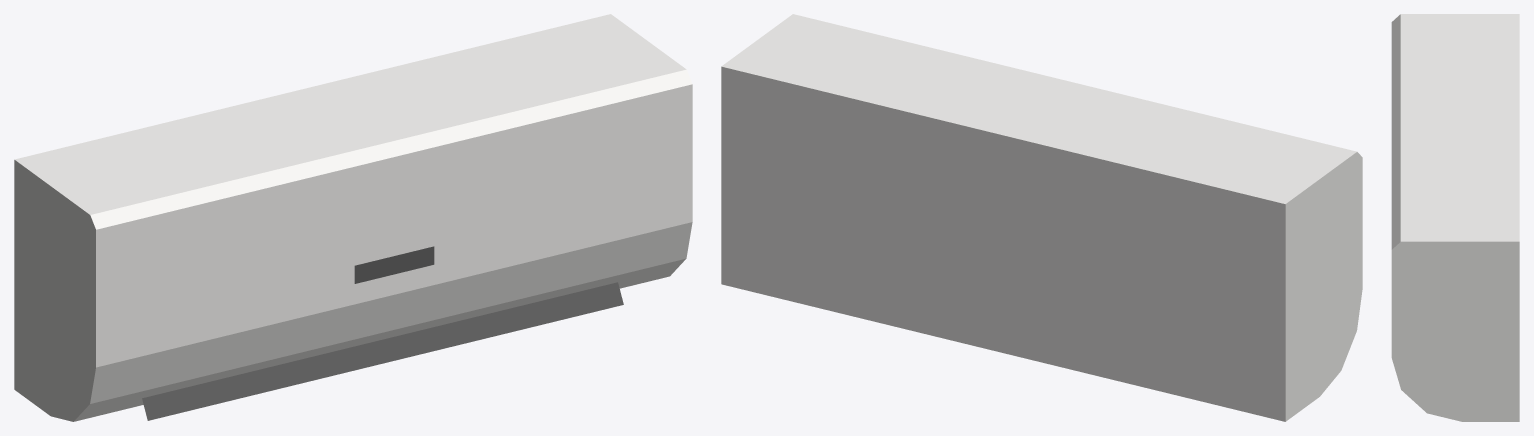
Rendered from Airconditioning.fbx.
The picture shows the model from 3 angles, left to right: view 1: azimuth 30°, elevation 25°; view 2: azimuth 150°, elevation 25°; view 3: azimuth 270°, elevation 25°; orthographic projection. The views are drawn at different scales.
Parts seen in each view (by area): view 1: Airconditioning; view 2: Airconditioning; view 3: Airconditioning.
Part boxes in pixels (<box>): Airconditioning: <box>14,14,692,421</box>; Airconditioning: <box>721,14,1362,421</box>; Airconditioning: <box>1391,14,1519,421</box>.
Size of the model in its own units: 100 by 23.84 by 37.02.
